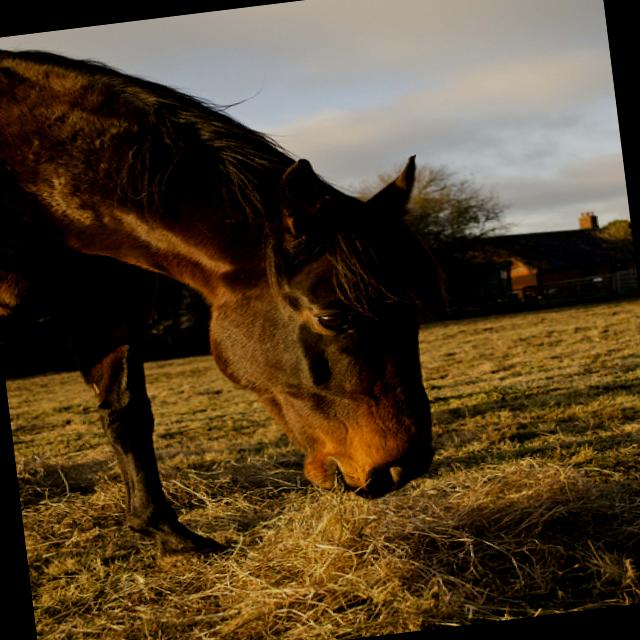Vehicle: (524, 279, 610, 311)
